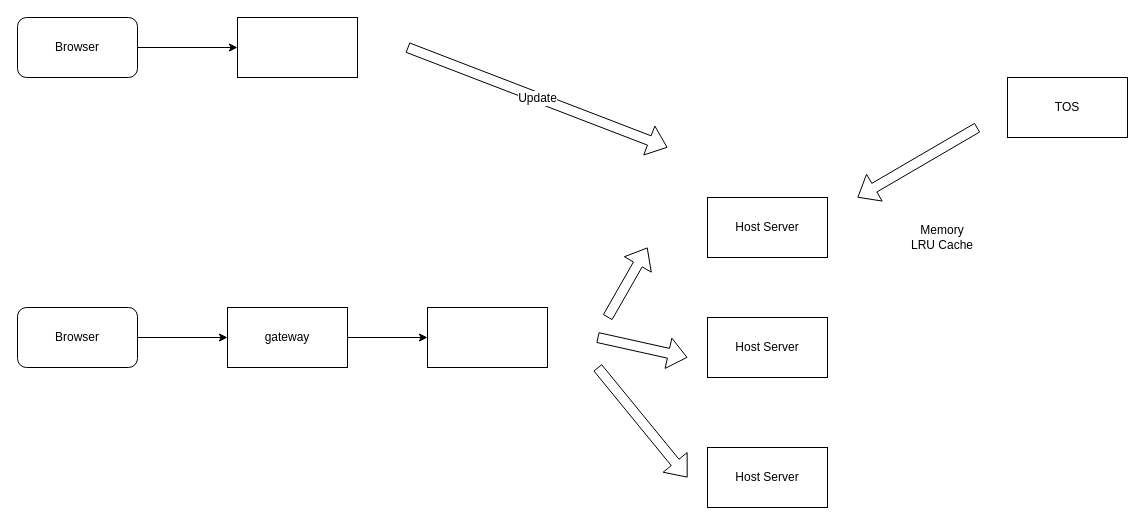
The diagram is 1145 pixels wide and 525 high, and some of its shapes have lost their labels. The shapes that lost their labels are listed below. From the top down, each one's box as (x1, y1, x2, y2) in pixels, then its label:
(236, 16, 358, 78): admin
(426, 306, 548, 368): Load Balancer
